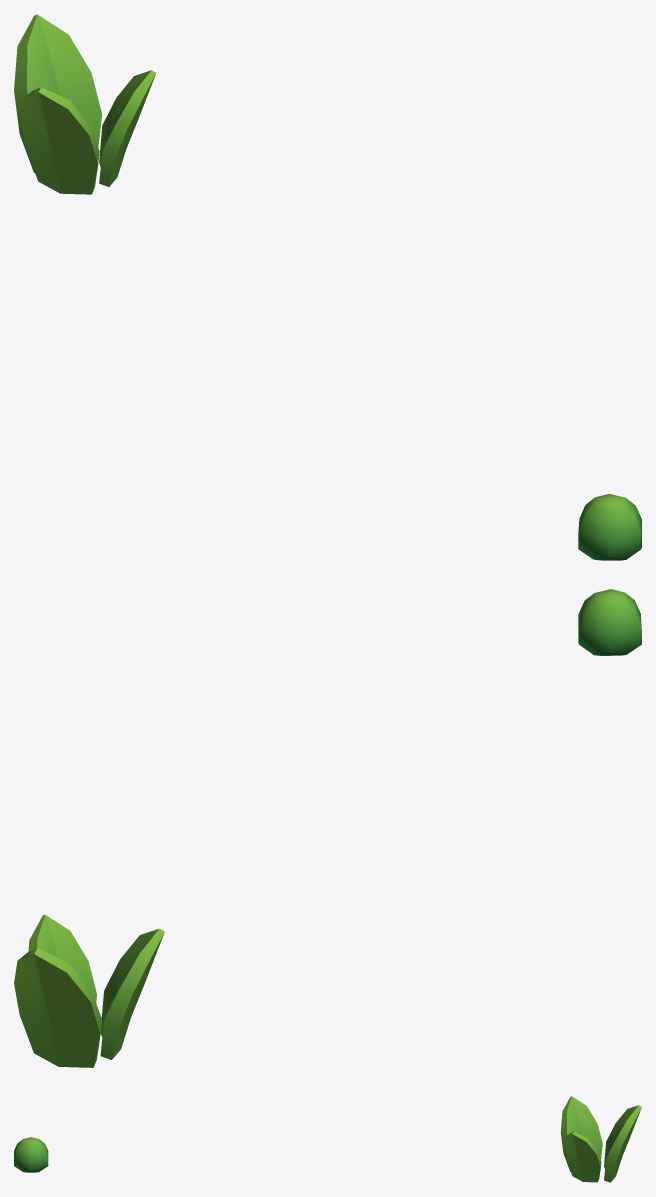
File: grass_01.glb
3 renders of one model, top to bottom at view 1: azimuth 30°, elevation 25°; view 2: azimuth 150°, elevation 25°; view 3: azimuth 270°, elevation 25°, orthographic. The views are drawn at different scales.
Visible parts, largest first — view 1: Grass_1_B_Color1, Bush_1_A_Color1; view 2: Grass_1_B_Color1, Bush_1_A_Color1; view 3: Grass_1_B_Color1, Bush_1_A_Color1.
Part boxes in pixels (x1,y1,x2,y2): Grass_1_B_Color1: (14, 14, 156, 194); Bush_1_A_Color1: (578, 494, 641, 560); Grass_1_B_Color1: (14, 914, 164, 1067); Bush_1_A_Color1: (578, 589, 641, 655); Grass_1_B_Color1: (560, 1096, 641, 1182); Bush_1_A_Color1: (14, 1137, 48, 1172).
Size of the model in its own units: 0.5051 by 0.5375 by 4.3.
2 materials, 2 textured.
